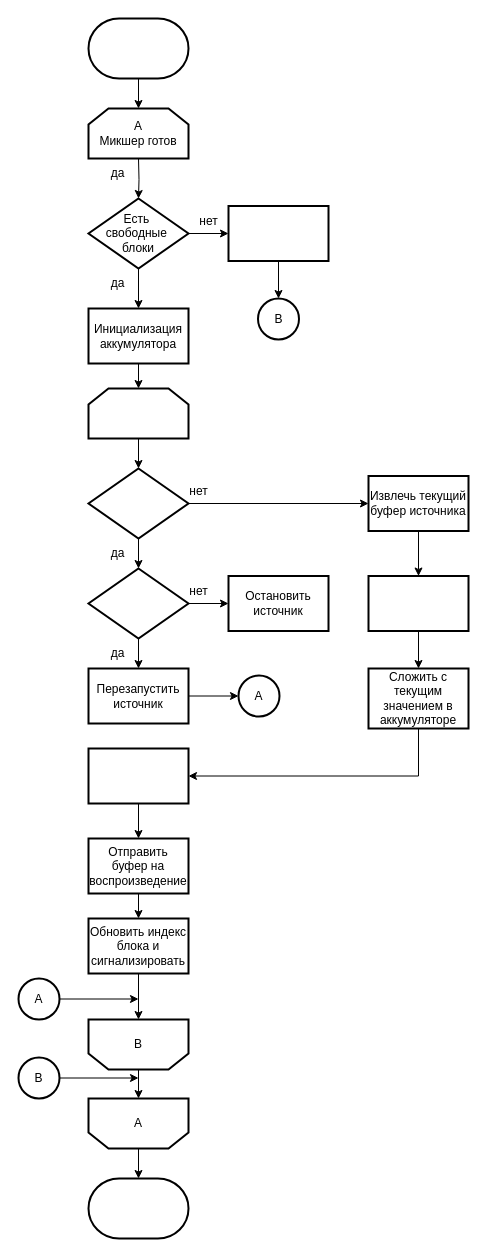
Image size: 486x1256. Some labels were removed from this diagram. Here are the shapes that lost their labels. From the top down, the centre of each, then its label:
At point (138, 48): "Начало".
At point (278, 233): "Ждать сигнал".
At point (138, 413): "B Цикл по источникам".
At point (138, 503): "Конец буфера".
At point (138, 603): "Зацикливание включено".
At point (418, 603): "Рассчитать громкость и панораму".
At point (138, 775): "Запись результата в выходной буфер".
At point (138, 1208): "Конец".
